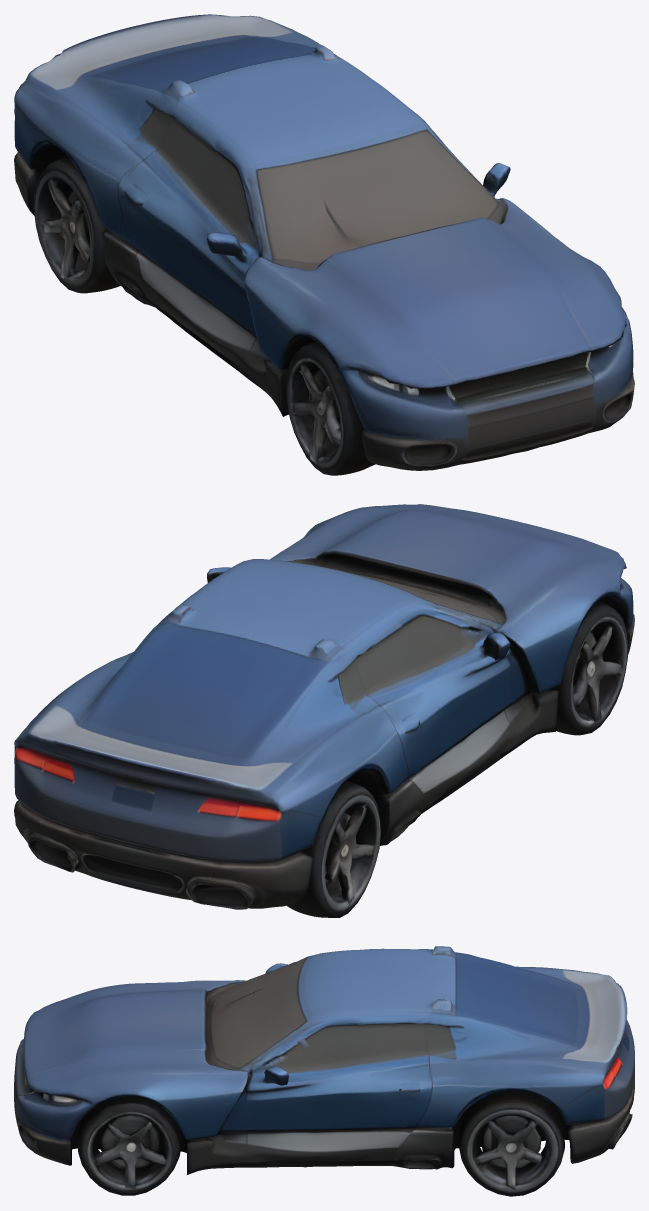
The model's file is blue muscle car.glb.
The picture shows the model from 3 angles, top to bottom: view 1: azimuth 30°, elevation 25°; view 2: azimuth 150°, elevation 25°; view 3: azimuth 270°, elevation 25°; orthographic projection. The views are drawn at different scales.
Visible parts, largest first — view 1: root.0, root.3, root.1, root.5, root.7; view 2: root.0, root.1, root.3, root.7, root.5; view 3: root.0, root.2, root.4, root.6, root.8.
Part boxes in pixels (x1,y1,x2,y2): root.0: [14, 14, 634, 470]; root.3: [286, 341, 375, 475]; root.1: [33, 156, 120, 293]; root.5: [291, 362, 340, 464]; root.7: [44, 179, 90, 278]; root.0: [14, 504, 634, 909]; root.1: [286, 781, 380, 917]; root.3: [551, 601, 627, 735]; root.7: [325, 804, 374, 905]; root.5: [572, 625, 621, 725]; root.0: [14, 946, 634, 1174]; root.2: [458, 1090, 564, 1196]; root.4: [77, 1096, 181, 1195]; root.6: [93, 1115, 165, 1189]; root.8: [476, 1115, 541, 1189].
Size of the model in its own units: 0.7911 by 0.5629 by 1.84.
9 materials, 9 textured.
